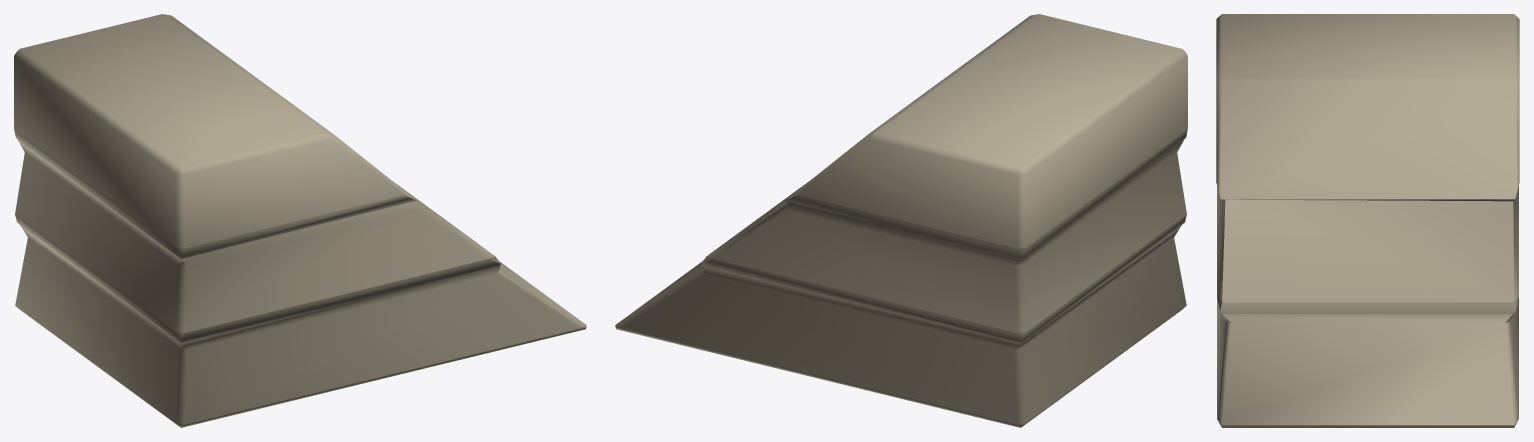
The model's file is prop_ballast.glb.
The picture shows the model from 3 angles, left to right: view 1: azimuth 30°, elevation 25°; view 2: azimuth 150°, elevation 25°; view 3: azimuth 270°, elevation 25°; orthographic projection. The views are drawn at different scales.
Visible parts, largest first — view 1: Surface; view 2: Surface; view 3: Surface.
Boxes of the visible parts, <box> form: Surface: <box>14,14,586,427</box>; Surface: <box>615,14,1187,427</box>; Surface: <box>1216,14,1519,427</box>.
Bounding box in the file's own units: 1.98 × 1.2 × 1.4.
